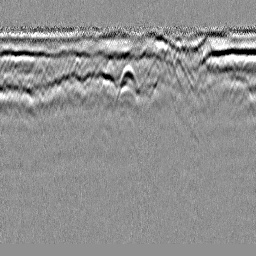cavity: (113, 61, 141, 108)
